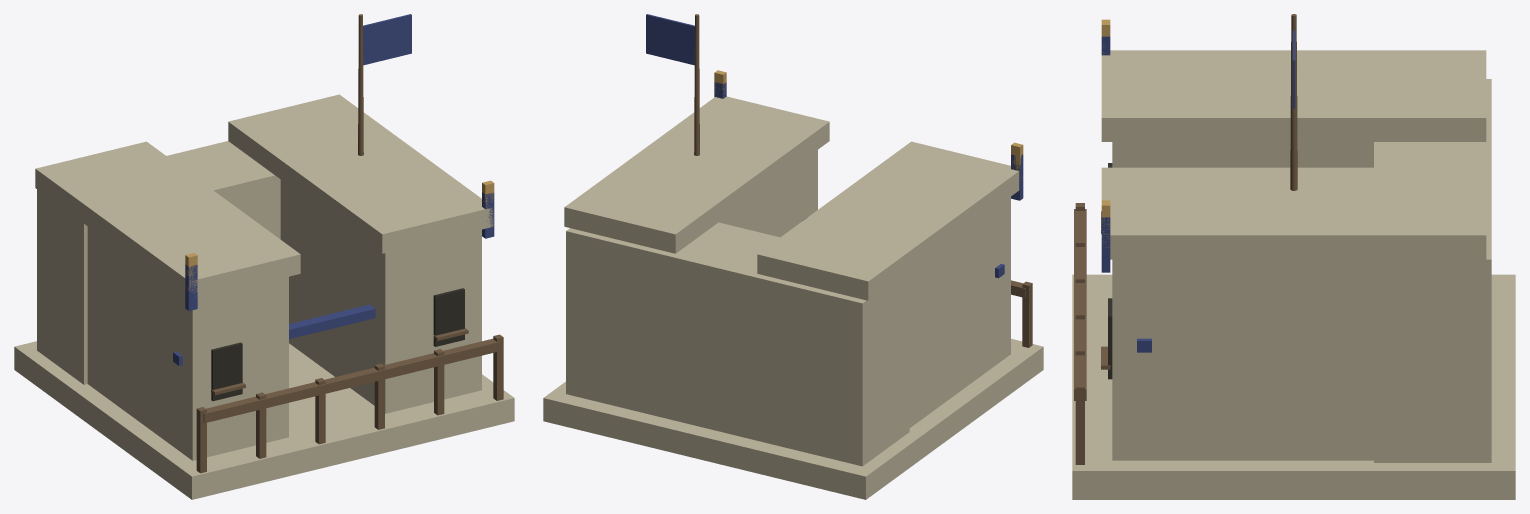
Rendered from b-stable-persian.glb.
The picture shows the model from 3 angles, left to right: view 1: azimuth 30°, elevation 25°; view 2: azimuth 150°, elevation 25°; view 3: azimuth 270°, elevation 25°; orthographic projection. The views are drawn at different scales.
Parts seen in each view (by area): view 1: Structure, era1, era3; view 2: Structure; view 3: Structure, era2.
Boxes of the visible parts, box(x1,y1,x2,y2) form: Structure: box(14, 14, 514, 499); era1: box(185, 201, 494, 310); era3: box(185, 180, 494, 291); Structure: box(543, 14, 1043, 499); Structure: box(1072, 14, 1515, 499); era2: box(1101, 36, 1110, 260).
Size of the model in its own units: 4.35 by 4.6 by 4.15.
